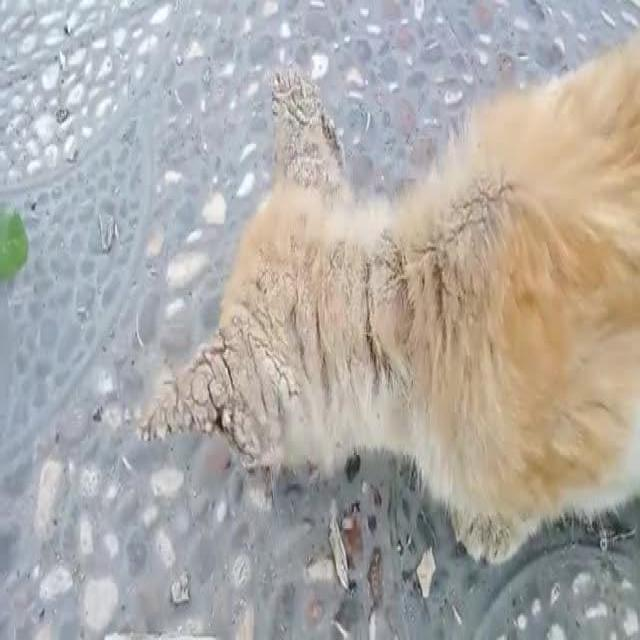ghe: (144, 322, 301, 472), (304, 256, 450, 391), (268, 66, 348, 218)
